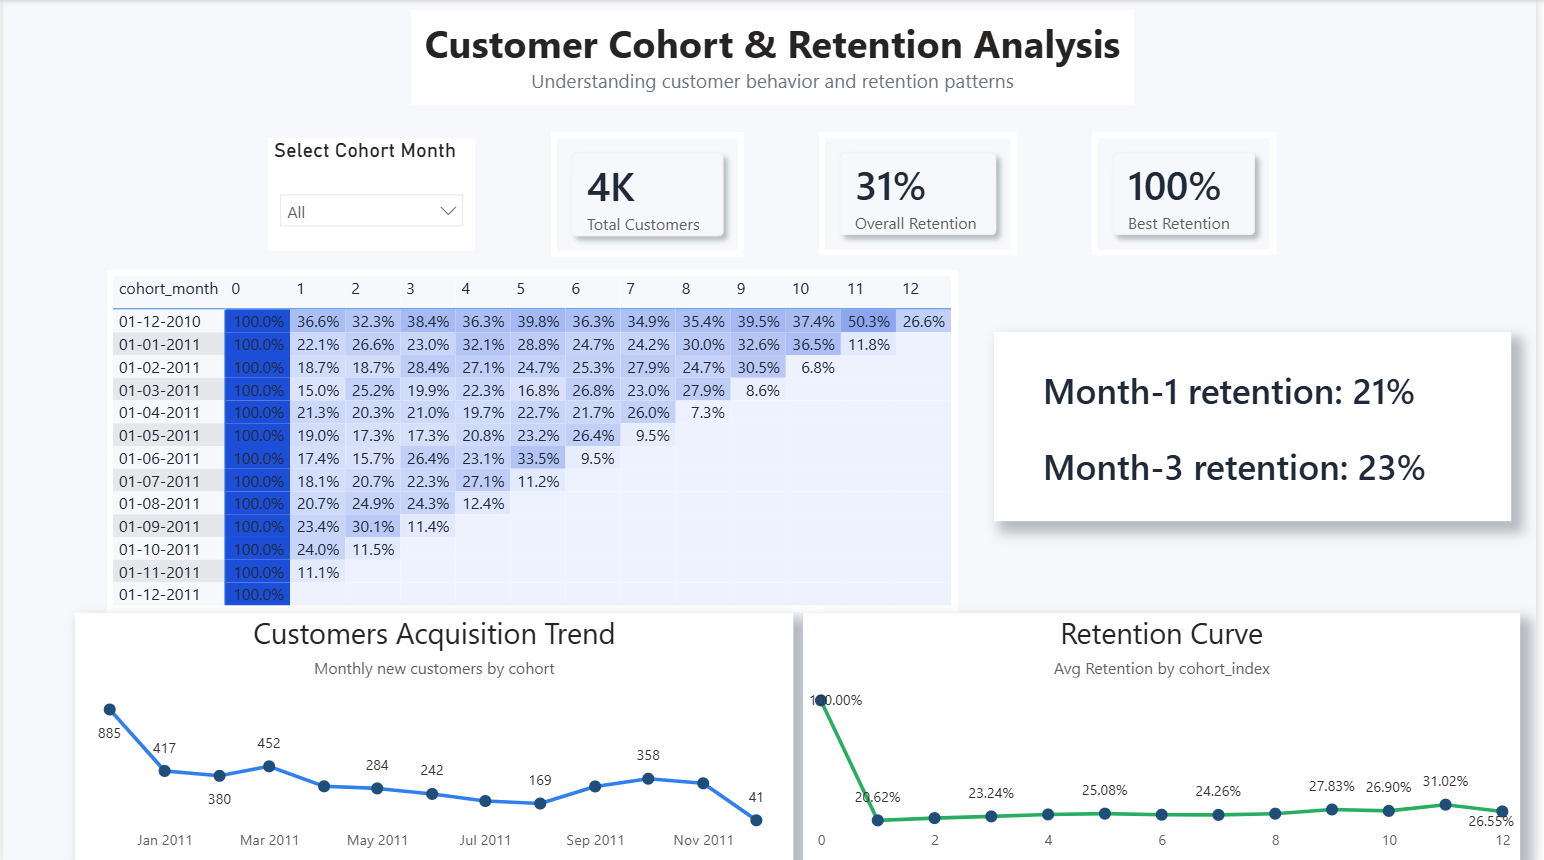

Layout of this report page (visuals, bound fields, positions):
{"tool":"powerbi","page":{"name":"Page 1","canvas":[1280,720],"ordinal":0},"visuals":[{"type":"pivotTable","fields":{"Columns":["cohort_retention_table.cohort_index"],"Rows":["cohort_retention_table.cohort_month"],"Values":["Measures Table.Retention %"]},"box":[86.6,225.7,711,286],"z":0},{"type":"lineChart","title":" Customers Acquisition Trend","fields":{"Y":["Measures Table.New Customers"],"Category":["cohort_retention_table.cohort_month"]},"box":[60.3,511.6,600.1,208.1],"z":1000},{"type":"lineChart","title":"Retention Curve","fields":{"Category":["cohort_retention_table.cohort_index"],"Y":["Measures Table.Avg Retention"]},"box":[668.2,511.6,599.1,208.1],"z":2000},{"type":"cardVisual","fields":{"Data":["Measures Table.Total Customers"]},"box":[457.5,110.2,161.5,104.1],"z":3000},{"type":"cardVisual","fields":{"Data":["Measures Table.Overall Retention"]},"box":[681.5,110.6,165.3,103.1],"z":4000},{"type":"cardVisual","fields":{"Data":["Measures Table.Best Retention"]},"box":[909.4,110.6,153.7,103.1],"z":5000},{"type":"textbox","box":[340.4,8.8,604,78.8],"z":6000},{"type":"slicer","title":"Select Cohort Month","fields":{"Values":["cohort_retention_table.cohort_month"]},"box":[221.8,115,173.1,94.3],"z":7000},{"type":"cardVisual","fields":{"Data":["Measures Table.Month1 Insight","Measures Table.Month3 Insight"]},"box":[827.7,277.2,431.9,157.6],"z":8000}]}

Visuals, with their boxes in screenshot pixels (x1, y1, x2, y2), scaled from the page's 1280x720 canvas onto the 1544x860 screenshot:
pivotTable - cohort_retention_table.cohort_index x cohort_retention_table.cohort_month: locate(104, 270, 962, 611)
" Customers Acquisition Trend" lineChart: locate(73, 611, 797, 859)
"Retention Curve" lineChart: locate(806, 611, 1529, 859)
cardVisual - Measures Table.Total Customers: locate(552, 132, 747, 256)
cardVisual - Measures Table.Overall Retention: locate(822, 132, 1021, 255)
cardVisual - Measures Table.Best Retention: locate(1097, 132, 1282, 255)
textbox: locate(411, 11, 1139, 105)
"Select Cohort Month" slicer: locate(268, 137, 476, 250)
cardVisual - Measures Table.Month1 Insight x Measures Table.Month3 Insight: locate(998, 331, 1519, 519)
